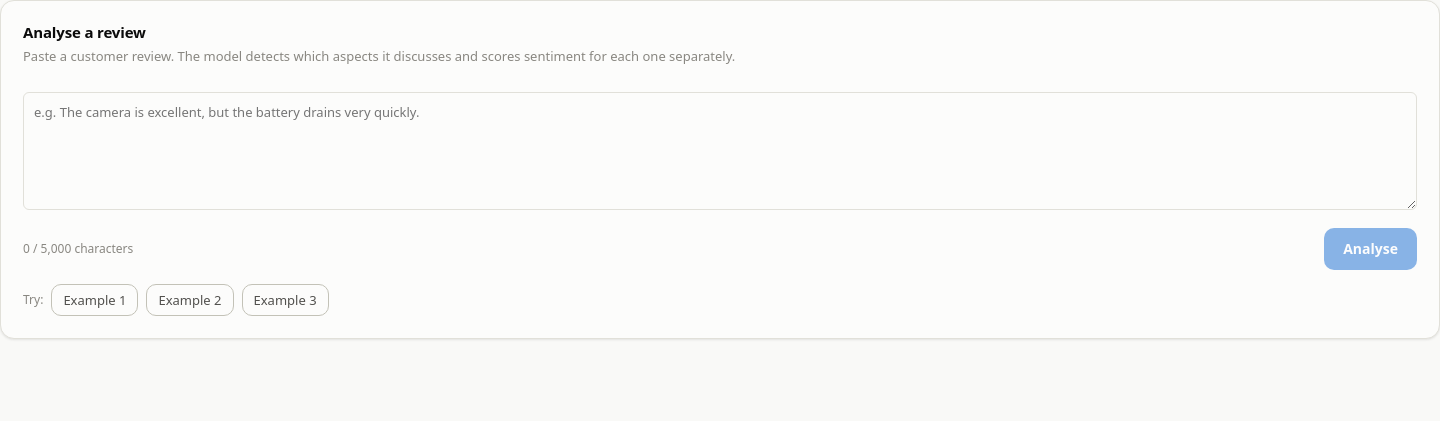
Test: error states › explains an unreachable API
Type "Great camera" into the text box named "review text" at (720, 151), box [23, 92, 1417, 210]
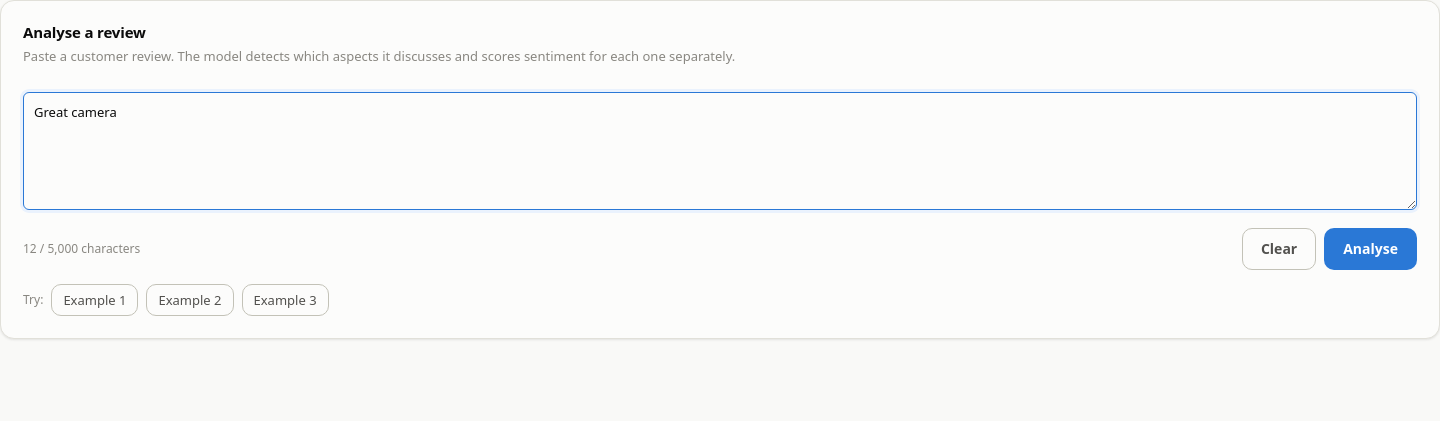
Click the button "Analyse" at (1371, 249), box [1324, 228, 1417, 270]
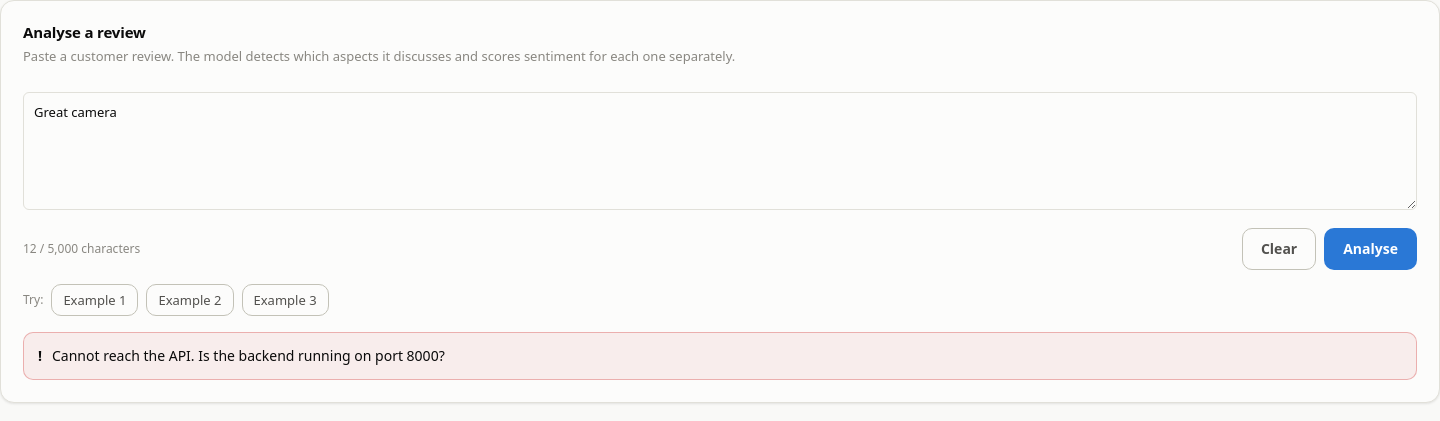
Check: the message shows "Cannot reach the API", box [52, 346, 445, 365]
